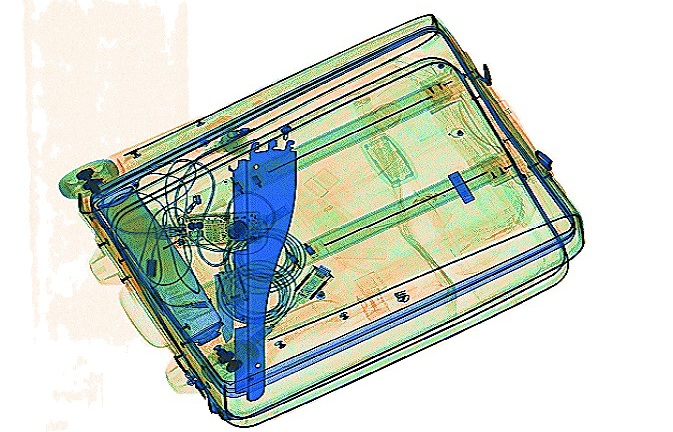knife: (209, 208, 236, 343)
pressure: (91, 182, 222, 353)
